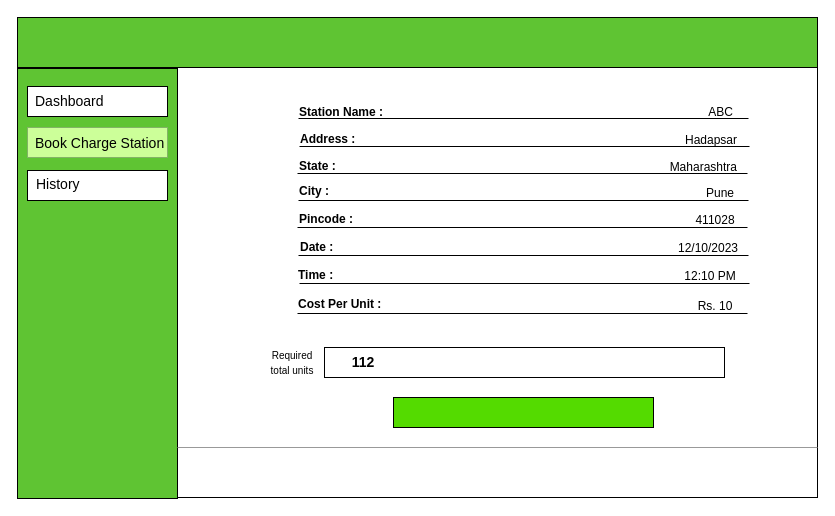
Some shapes in this 835 by 516 pixel diagram are drawn without their labels. Each missing label, with the centre of its shape:
Book My Charge Station: [417,42]
PAY NOW RS 1120: [523,412]
